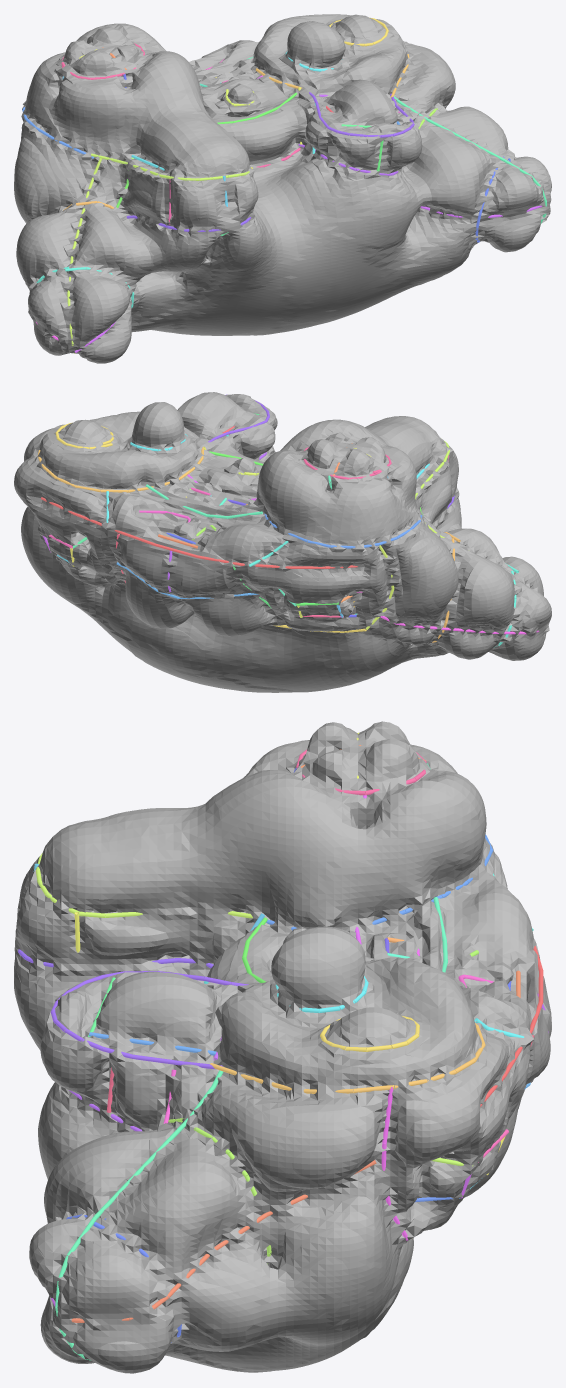
Rendered from author2_gamepad.gltf.
The picture shows the model from 3 angles, top to bottom: view 1: azimuth 30°, elevation 25°; view 2: azimuth 150°, elevation 25°; view 3: azimuth 270°, elevation 25°; orthographic projection. The views are drawn at different scales.
Size of the model in its own units: 0.8339 by 0.4614 by 0.471.
